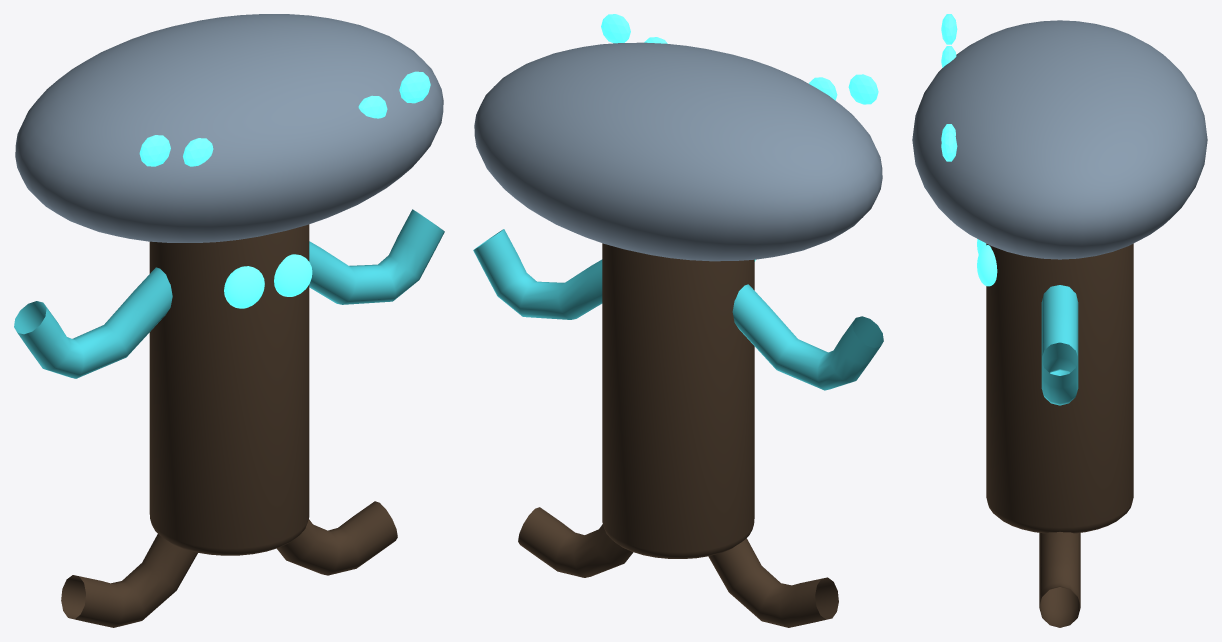
The model's file is plant_v4.glb.
The picture shows the model from 3 angles, left to right: view 1: azimuth 30°, elevation 25°; view 2: azimuth 150°, elevation 25°; view 3: azimuth 270°, elevation 25°; orthographic projection. The views are drawn at different scales.
Visible parts, largest first — view 1: MUSHROOM_CAP_PRIMARY, MUSHROOM_STEM_SECONDARY, MUSHROOM_ARM_ACCENT, MUSHROOM_ROOT_SECONDARY, MUSHROOM_ARM_ACCENT.001, MUSHROOM_ROOT_SECONDARY.001, EYE_EMISSIVE, EYE_EMISSIVE.001, CAP_SPOT_EMISSIVE, CAP_SPOT_EMISSIVE.006, CAP_SPOT_EMISSIVE.001; view 2: MUSHROOM_CAP_PRIMARY, MUSHROOM_STEM_SECONDARY, MUSHROOM_ARM_ACCENT, MUSHROOM_ARM_ACCENT.001, MUSHROOM_ROOT_SECONDARY, MUSHROOM_ROOT_SECONDARY.001, CAP_SPOT_EMISSIVE, CAP_SPOT_EMISSIVE.006; view 3: MUSHROOM_CAP_PRIMARY, MUSHROOM_STEM_SECONDARY, MUSHROOM_ARM_ACCENT.001, MUSHROOM_ROOT_SECONDARY.001, EYE_EMISSIVE.001.
Boxes of the visible parts, <box> form: MUSHROOM_CAP_PRIMARY: <box>15,14,443,242</box>; MUSHROOM_STEM_SECONDARY: <box>149,224,309,555</box>; MUSHROOM_ARM_ACCENT: <box>14,267,172,378</box>; MUSHROOM_ROOT_SECONDARY: <box>61,534,197,627</box>; MUSHROOM_ARM_ACCENT.001: <box>309,209,444,304</box>; MUSHROOM_ROOT_SECONDARY.001: <box>277,501,397,575</box>; EYE_EMISSIVE: <box>224,266,264,308</box>; EYE_EMISSIVE.001: <box>274,254,312,296</box>; CAP_SPOT_EMISSIVE: <box>139,135,170,166</box>; CAP_SPOT_EMISSIVE.006: <box>399,71,430,103</box>; CAP_SPOT_EMISSIVE.001: <box>183,138,213,166</box>; MUSHROOM_CAP_PRIMARY: <box>474,42,882,261</box>; MUSHROOM_STEM_SECONDARY: <box>602,243,754,558</box>; MUSHROOM_ARM_ACCENT: <box>732,284,883,390</box>; MUSHROOM_ARM_ACCENT.001: <box>473,229,602,319</box>; MUSHROOM_ROOT_SECONDARY: <box>708,538,838,627</box>; MUSHROOM_ROOT_SECONDARY.001: <box>518,507,633,577</box>; CAP_SPOT_EMISSIVE: <box>848,74,878,104</box>; CAP_SPOT_EMISSIVE.006: <box>601,14,630,43</box>; MUSHROOM_CAP_PRIMARY: <box>912,20,1207,259</box>; MUSHROOM_STEM_SECONDARY: <box>986,243,1133,533</box>; MUSHROOM_ARM_ACCENT.001: <box>1041,285,1078,405</box>; MUSHROOM_ROOT_SECONDARY.001: <box>1039,532,1080,627</box>; EYE_EMISSIVE.001: <box>977,245,997,286</box>.
Size of the model in its own units: 1.96 by 2.45 by 1.28.
